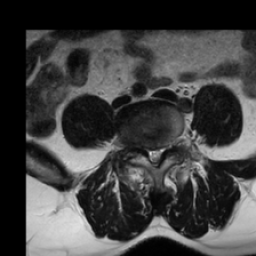CCS_stenosis: (151, 143, 157, 170)
LFS_severe_stenosis: (164, 135, 172, 155)
LLS_stenosis: (157, 141, 164, 163)
RFS_severe_stenosis: (136, 137, 146, 156)
RLS_severe_stenosis: (146, 140, 151, 162)
